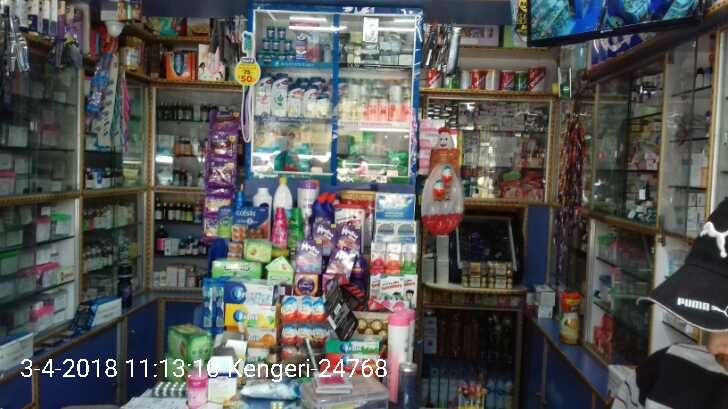vicks: (254, 24, 312, 64)
